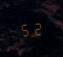five: (19, 21, 30, 37)
two: (31, 20, 42, 36)
